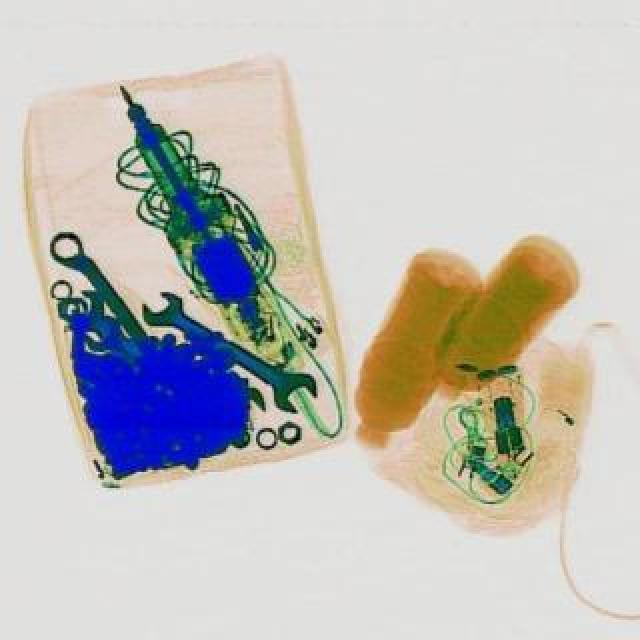scissors: (130, 276, 326, 420), (38, 222, 154, 346), (56, 282, 146, 366), (82, 310, 150, 370)
